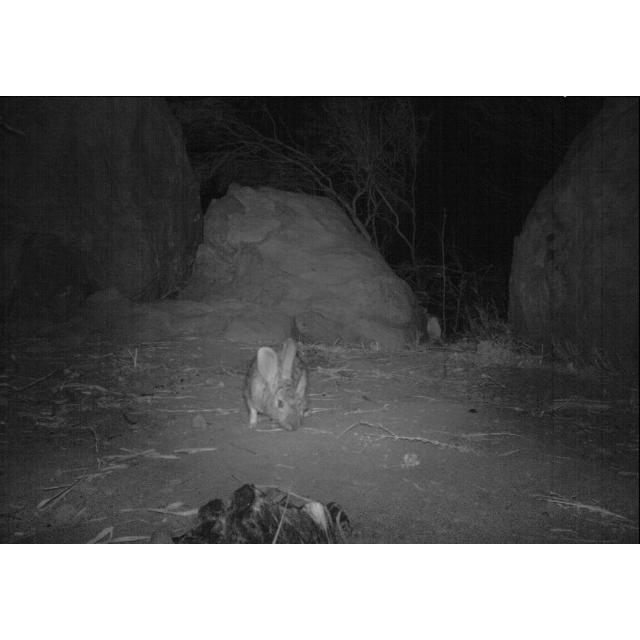animals: (243, 338, 314, 436)
